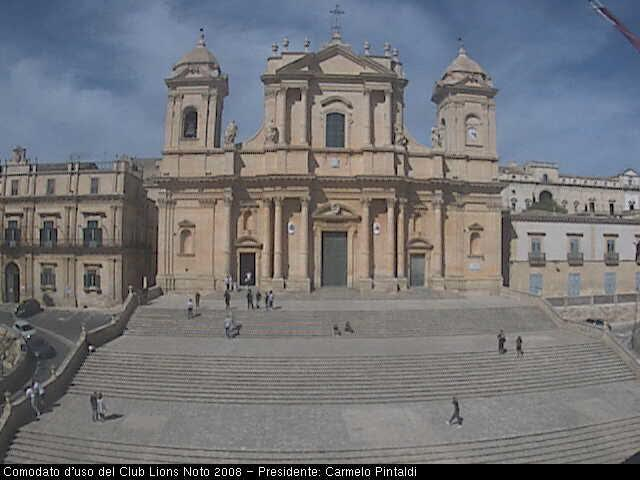person: (445, 396, 464, 429), (25, 387, 42, 421), (32, 382, 50, 412), (496, 329, 506, 357), (98, 393, 107, 422), (91, 392, 99, 421), (246, 289, 255, 312), (516, 335, 525, 358), (87, 342, 98, 360), (343, 320, 355, 336), (224, 317, 232, 338), (194, 291, 201, 315), (330, 323, 341, 337), (187, 298, 194, 319), (255, 290, 262, 311), (224, 292, 231, 312), (268, 291, 274, 312), (262, 291, 268, 311), (224, 274, 230, 293), (246, 270, 252, 288), (230, 275, 236, 292)
